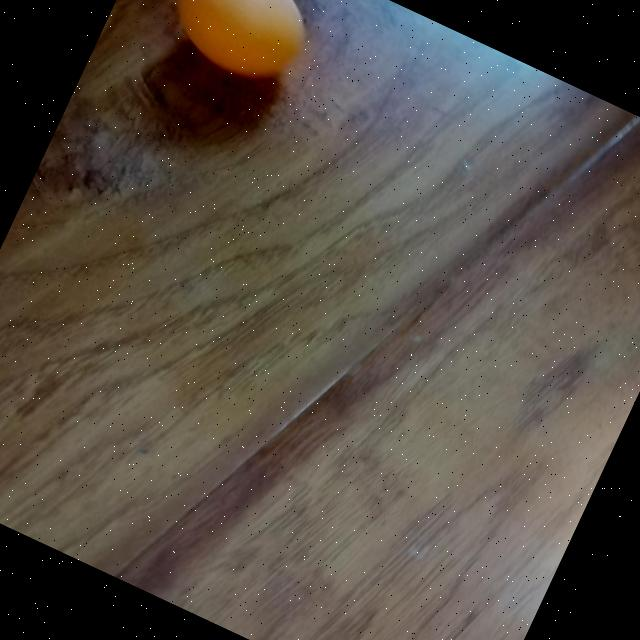ping-pong-ball: (157, 0, 324, 93)
